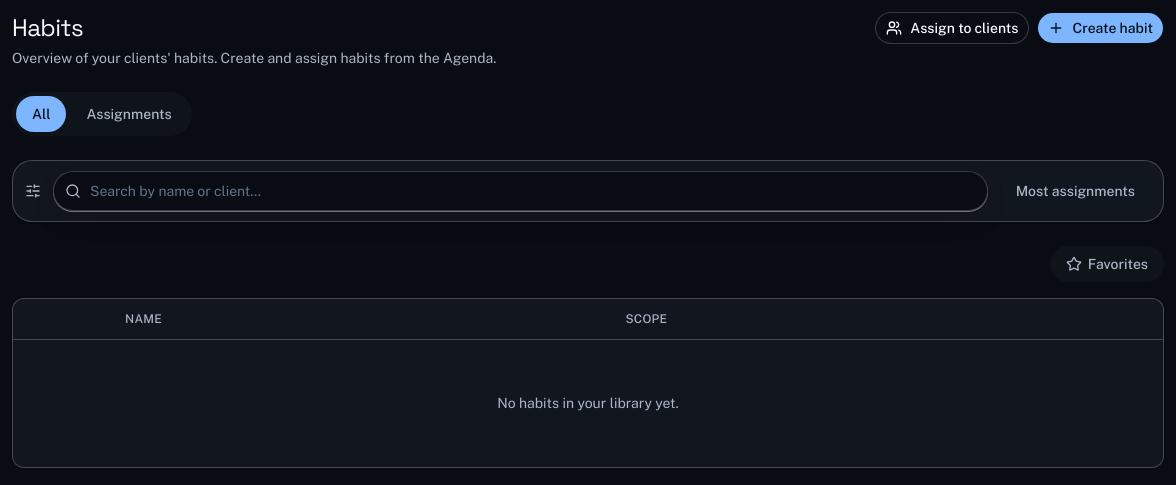
Habits — assignments visibility › keeps a habit whose doc has NO `deleted` field (#400)
What coordinates should you click on to do the following:
click the button "Assignments"
I would click on:
 (129, 114)
Its box is 70,96 -> 188,132.
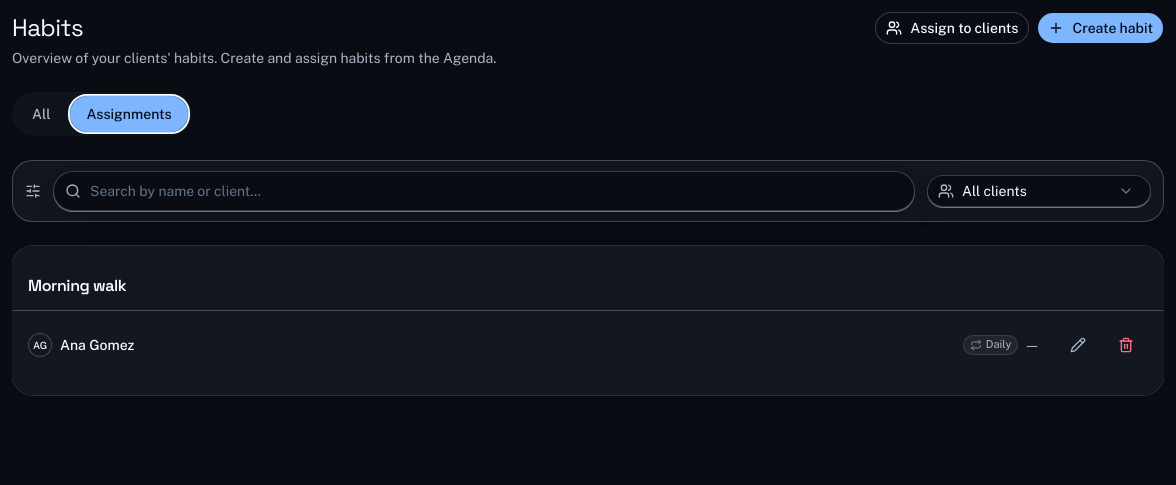
Now the heading "Morning walk" is shown, box 28,274 -> 126,298
